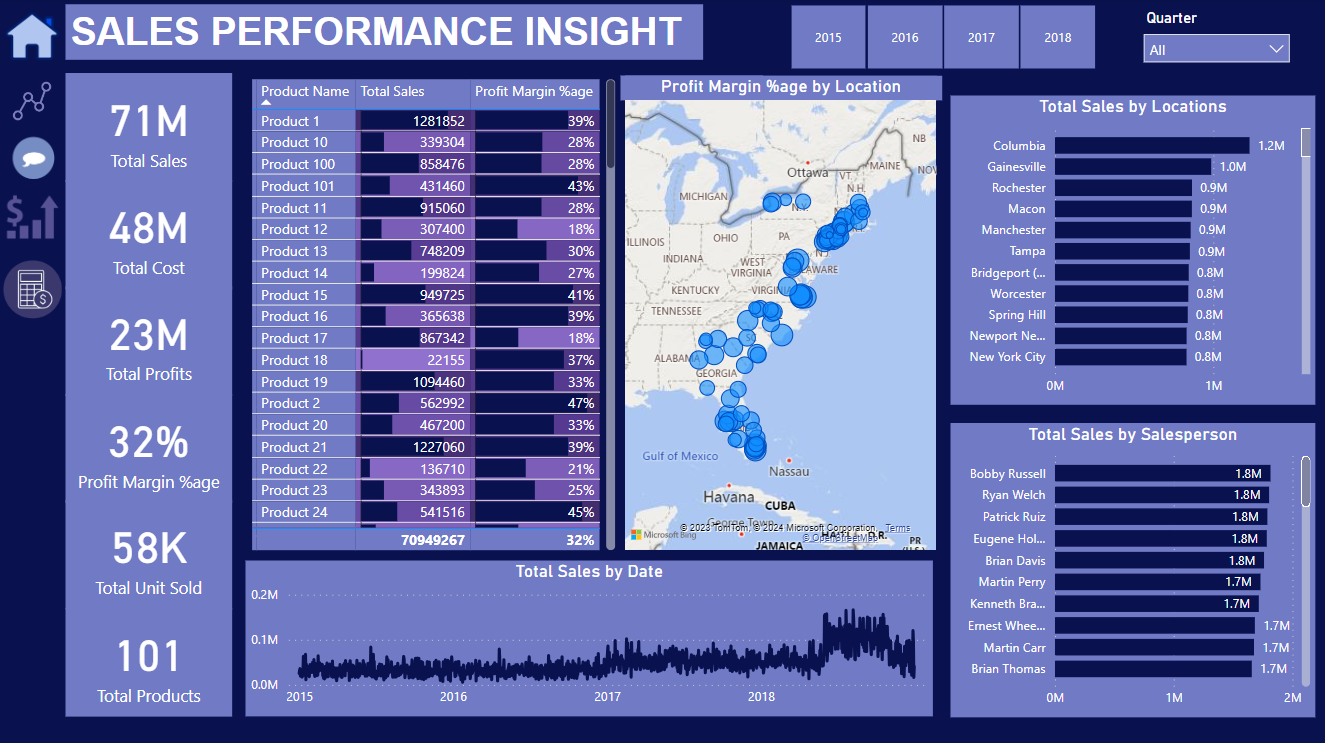

The dashboard page shown, as its layout file describes it:
{"tool":"powerbi","page":{"name":"Basic Sales Analytics","canvas":[1280,720],"ordinal":0},"visuals":[{"type":"card","fields":{"Values":["Key Calculations.Total Sales"]},"box":[65.6,72.7,160.9,104.9],"z":0},{"type":"textbox","box":[65.6,6,615.1,53.6],"z":1000},{"type":"card","fields":{"Values":["Key Calculations.Total Cost"]},"box":[65.6,176.4,160.9,104.9],"z":2000},{"type":"card","fields":{"Values":["Key Calculations.Total Profits"]},"box":[65.6,278.9,160.9,104.9],"z":3000},{"type":"card","fields":{"Values":["Key Calculations.Profit Margin %age"]},"box":[65.6,382.6,160.9,104.9],"z":4000},{"type":"card","fields":{"Values":["Key Calculations.Total Unit Sold"]},"box":[65.6,485.2,160.9,104.9],"z":5000},{"type":"card","fields":{"Values":["Key Calculations.Total Products"]},"box":[65.6,588.9,160.9,104.9],"z":6000},{"type":"slicer","fields":{"Values":["Dates.Year"]},"box":[739.1,0,343.3,75.1],"z":7000},{"type":"slicer","fields":{"Values":["Dates.Date.Variation.Date Hierarchy.Quarter"]},"box":[1095.5,6,160.9,75.1],"z":8000},{"type":"barChart","title":"Total Sales by Locations","fields":{"Y":["Key Calculations.Total Sales"],"Category":["Location.Name"]},"box":[919.4,93.7,352.2,298.1],"z":9000},{"type":"barChart","title":"Total Sales by Salesperson","fields":{"Y":["Key Calculations.Total Sales"],"Category":["Sales Person.Salesperson Name"]},"box":[919.4,409.8,352.2,283.6],"z":10000},{"type":"lineChart","fields":{"Y":["Key Calculations.Total Sales"],"Category":["Dates.Date"]},"box":[239.2,543.2,663.4,150.2],"z":11000},{"type":"tableEx","fields":{"Values":["Product.Product Sort Index","Product.Product Name","Key Calculations.Total Sales","Key Calculations.Profit Margin %age"]},"box":[239.2,73.3,361.8,463.9],"z":12000},{"type":"map","title":"Profit Margin %age by Location","fields":{"Y":["Location.Latitude"],"X":["Location.Longitude"],"Size":["Key Calculations.Profit Margin %age"]},"box":[600.9,74.5,310.1,462.7],"z":13000},{"type":"image","box":[0,0,65.8,72.7],"z":14000},{"type":"image","box":[0,235,66.2,92.5],"z":15000},{"type":"image","box":[5,73.8,55,51.2],"z":16000},{"type":"image","box":[3.8,125,62.5,65],"z":17000},{"type":"image","box":[0,177.5,66.2,67.5],"z":18000}]}

Visuals, with their boxes in screenshot pixels (x1, y1, x2, y2), scaled from the page's 1280x720 canvas onto the 1325x743 screenshot:
card - Key Calculations.Total Sales: bbox=(68, 75, 234, 183)
textbox: bbox=(68, 6, 705, 62)
card - Key Calculations.Total Cost: bbox=(68, 182, 234, 290)
card - Key Calculations.Total Profits: bbox=(68, 288, 234, 396)
card - Key Calculations.Profit Margin %age: bbox=(68, 395, 234, 503)
card - Key Calculations.Total Unit Sold: bbox=(68, 501, 234, 609)
card - Key Calculations.Total Products: bbox=(68, 608, 234, 716)
slicer - Dates.Year: bbox=(765, 0, 1120, 77)
slicer - Dates.Date.Variation.Date Hierarchy.Quarter: bbox=(1134, 6, 1301, 84)
"Total Sales by Locations" barChart: bbox=(952, 97, 1316, 404)
"Total Sales by Salesperson" barChart: bbox=(952, 423, 1316, 716)
lineChart - Key Calculations.Total Sales x Dates.Date: bbox=(248, 561, 934, 716)
tableEx - Product.Product Sort Index x Product.Product Name: bbox=(248, 76, 622, 554)
"Profit Margin %age by Location" map: bbox=(622, 77, 943, 554)
image: bbox=(0, 0, 68, 75)
image: bbox=(0, 243, 69, 338)
image: bbox=(5, 76, 62, 129)
image: bbox=(4, 129, 69, 196)
image: bbox=(0, 183, 69, 253)
